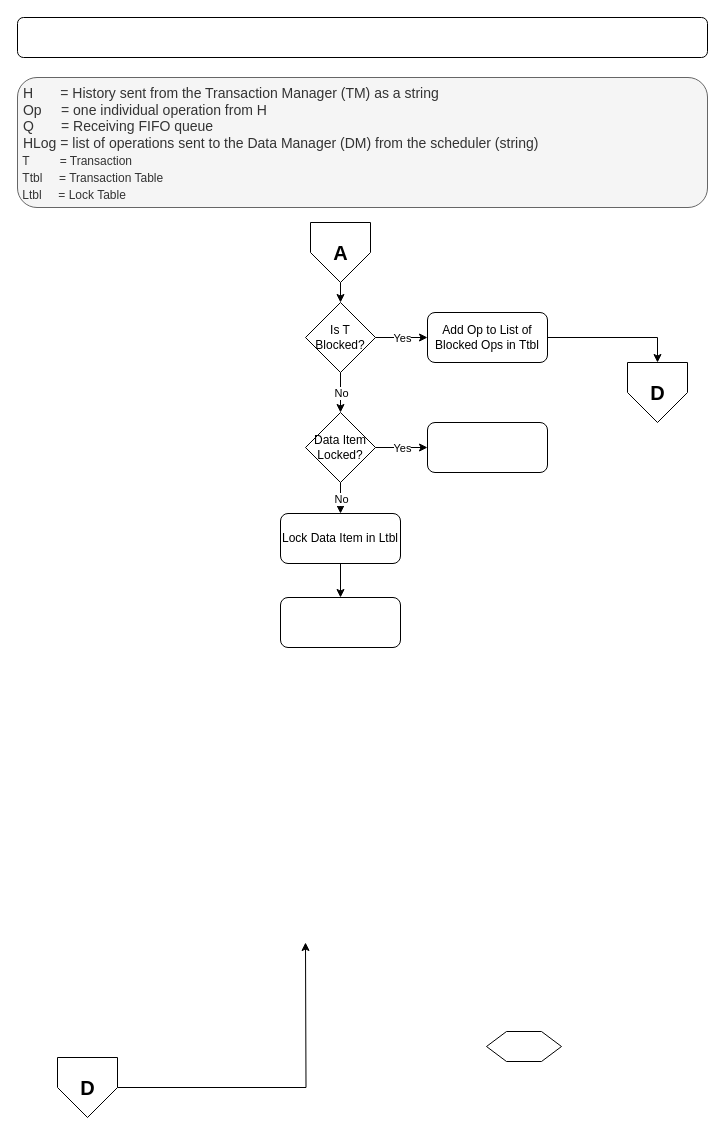
This 725x1135 diagram has some shape labels left out. The shapes that lost their labels are listed below. From the top down, each one's centre as x and y in pixels, then its label:
the point at 362,37: Process Read or Write Operation
the point at 487,447: Add Op to Waiting Ops List in Ltbl
the point at 340,622: Add Op to Active Operations in Ttbl
the point at 524,1046: Exit
